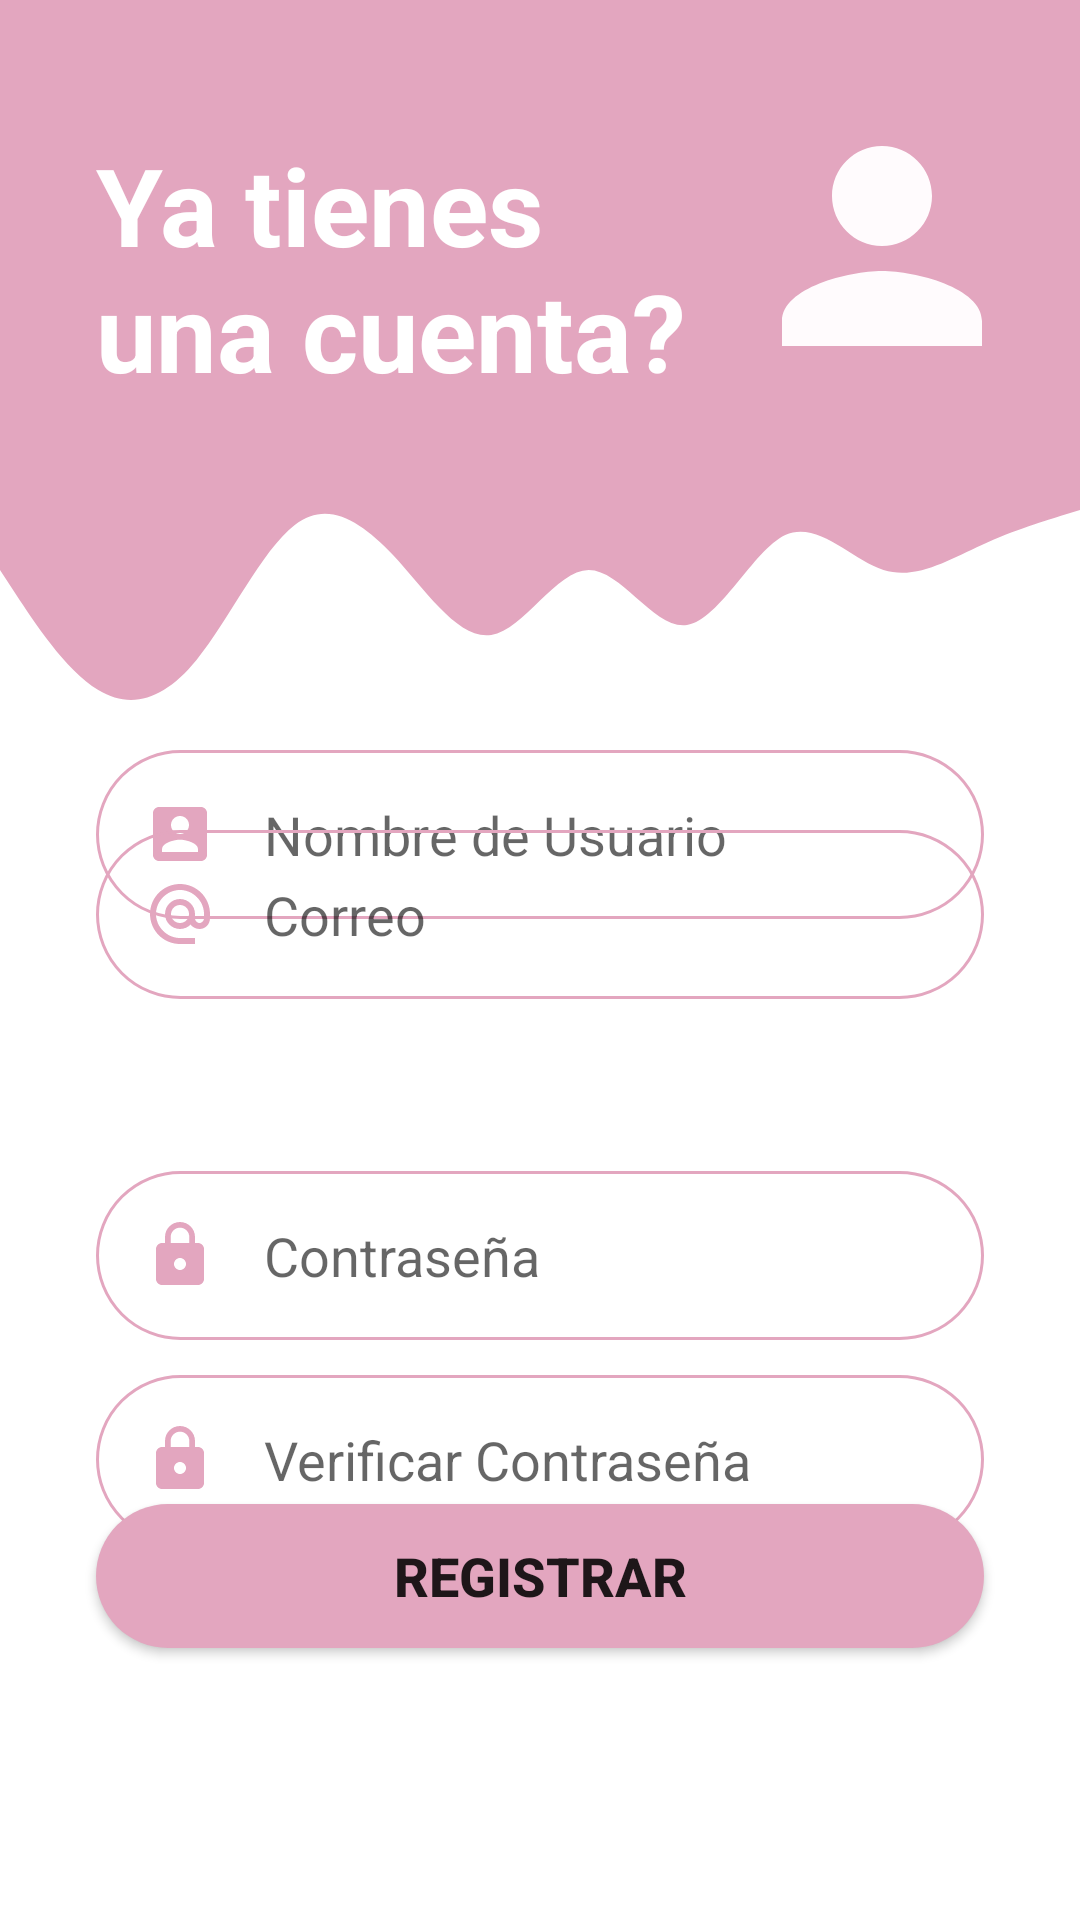

Where to tap for icons on this 1080px×1920px app screen, as [x,y]:
person: [882,246]
